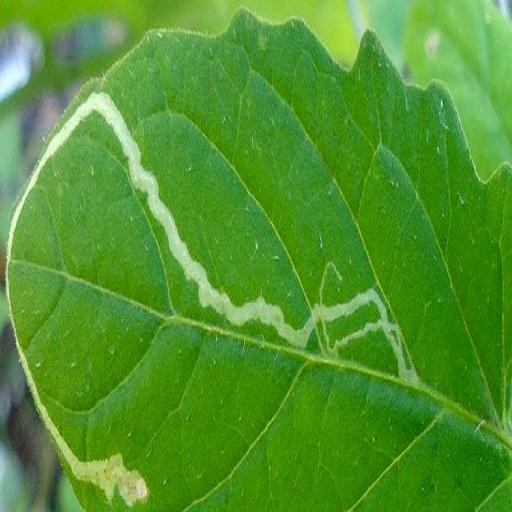disease_tomato: (1, 7, 512, 512)
